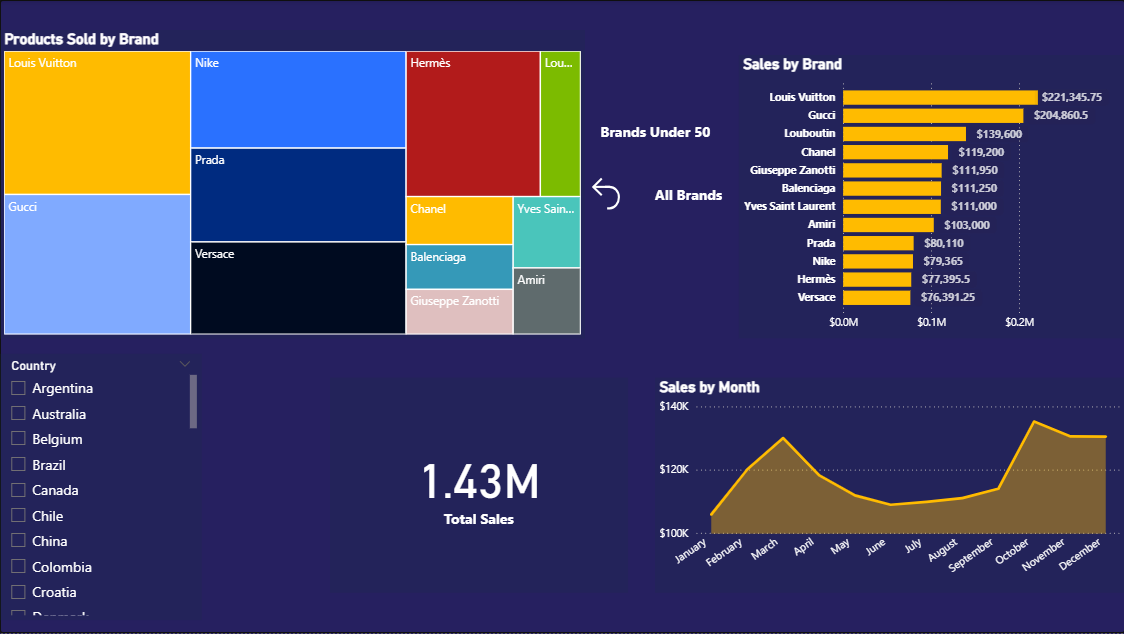

This screenshot's page, from the dashboard's own definition file:
{"tool":"powerbi","page":{"name":"Executive Overview","canvas":[1280,880],"ordinal":0},"visuals":[{"type":"textbox","box":[20,2,1238,48],"z":100},{"type":"textbox","box":[20,50,1238,30],"z":200},{"type":"actionButton","box":[20,78,172,32],"z":300},{"type":"actionButton","box":[196,78,172,32],"z":400},{"type":"actionButton","box":[372,78,172,32],"z":500},{"type":"actionButton","box":[548,78,172,32],"z":600},{"type":"actionButton","box":[724,78,172,32],"z":700},{"type":"actionButton","box":[900,78,172,32],"z":800},{"type":"actionButton","box":[1076,78,172,32],"z":900},{"type":"slicer","fields":{"Values":["Calendar.Year Month"]},"box":[20,124,294,60],"z":1000},{"type":"slicer","fields":{"Values":["customers.country"]},"box":[334,124,294,60],"z":1100},{"type":"slicer","fields":{"Values":["products.brand"]},"box":[648,124,294,60],"z":1200},{"type":"slicer","fields":{"Values":["orders.currency"]},"box":[962,124,298,60],"z":1300},{"type":"textbox","box":[20,820,1240,30],"z":1400},{"type":"textbox","box":[20,850,990,28],"z":1500},{"type":"card","fields":{"Values":["measures (2).Order Value USD"]},"box":[20,202,292,88],"z":1600},{"type":"card","fields":{"Values":["measures (2).Orders"]},"box":[334,202,292,88],"z":1700},{"type":"card","fields":{"Values":["measures (2).Order Lines"]},"box":[648,202,292,88],"z":1800},{"type":"card","fields":{"Values":["measures (2).Average Order Value USD"]},"box":[962,202,298,88],"z":1900},{"type":"clusteredBarChart","title":"Top 10 brands • allocated order value (USD)","fields":{"Category":["products.brand"],"Y":["measures (2).Order Value USD"]},"box":[20,308,606,270],"z":2000},{"type":"lineChart","title":"Monthly order value • USD, axis in thousands","fields":{"Category":["Calendar.Month"],"Y":["measures (2).Order Value USD"]},"box":[648,308,612,270],"z":2100},{"type":"card","fields":{"Values":["measures (2).Latest Month Change"]},"box":[20,598,292,100],"z":2200},{"type":"card","fields":{"Values":["measures (2).Purchasing Customers"]},"box":[334,598,292,100],"z":2300},{"type":"card","title":"Key takeaway / investigate","fields":{"Values":["measures (2).Sales Takeaway"]},"box":[648,598,612,130],"z":2400},{"type":"textbox","box":[20,754,1240,60],"z":2500},{"type":"actionButton","box":[1020,850,240,24],"z":15600}]}

Visuals, with their boxes on the page's 1280x880 design canvas (x1, y1, x2, y2). These are canvas units, not pixel positions in the 1124x634 screenshot, which may show the page scaled, cropped or inside an application window:
textbox: 20 2 1258 50
textbox: 20 50 1258 80
actionButton: 20 78 192 110
actionButton: 196 78 368 110
actionButton: 372 78 544 110
actionButton: 548 78 720 110
actionButton: 724 78 896 110
actionButton: 900 78 1072 110
actionButton: 1076 78 1248 110
slicer - Calendar.Year Month: 20 124 314 184
slicer - customers.country: 334 124 628 184
slicer - products.brand: 648 124 942 184
slicer - orders.currency: 962 124 1260 184
textbox: 20 820 1260 850
textbox: 20 850 1010 878
card - measures (2).Order Value USD: 20 202 312 290
card - measures (2).Orders: 334 202 626 290
card - measures (2).Order Lines: 648 202 940 290
card - measures (2).Average Order Value USD: 962 202 1260 290
"Top 10 brands • allocated order value (USD)" clusteredBarChart: 20 308 626 578
"Monthly order value • USD, axis in thousands" lineChart: 648 308 1260 578
card - measures (2).Latest Month Change: 20 598 312 698
card - measures (2).Purchasing Customers: 334 598 626 698
"Key takeaway / investigate" card: 648 598 1260 728
textbox: 20 754 1260 814
actionButton: 1020 850 1260 874
